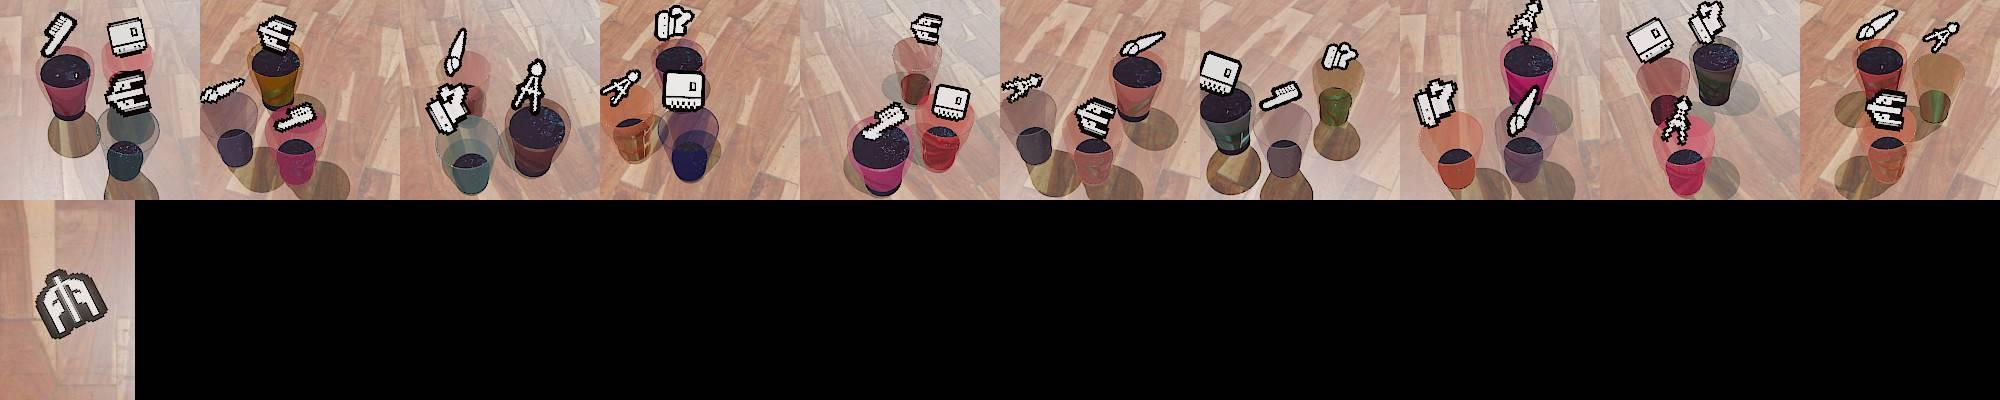icon: (33, 268, 110, 340), (426, 82, 472, 135), (1412, 75, 1458, 129), (103, 68, 152, 117), (1625, 17, 1675, 65), (860, 98, 911, 141), (1073, 97, 1117, 143), (510, 59, 546, 115), (1199, 50, 1241, 96), (1506, 84, 1541, 138), (106, 17, 149, 59), (1658, 94, 1693, 146), (1864, 89, 1906, 131), (662, 71, 705, 112), (41, 11, 78, 59), (1686, 0, 1726, 43), (256, 14, 297, 55), (1508, 0, 1543, 46), (602, 68, 642, 107), (1856, 8, 1901, 42), (931, 83, 971, 121), (656, 4, 696, 41), (199, 74, 247, 104), (272, 101, 318, 132), (1119, 31, 1166, 60), (1259, 80, 1302, 112), (1920, 20, 1959, 54), (1001, 71, 1042, 103), (444, 27, 468, 78), (1321, 41, 1358, 71), (909, 11, 941, 46)
